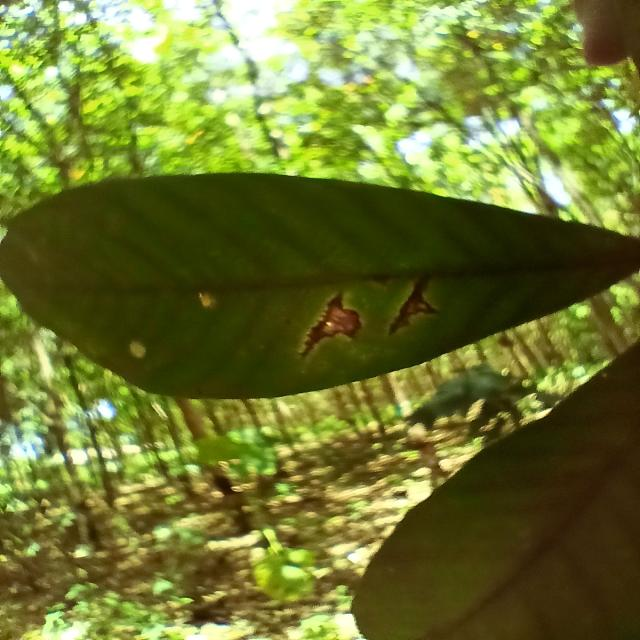Corynespora: (296, 289, 364, 358), (388, 273, 438, 334)
